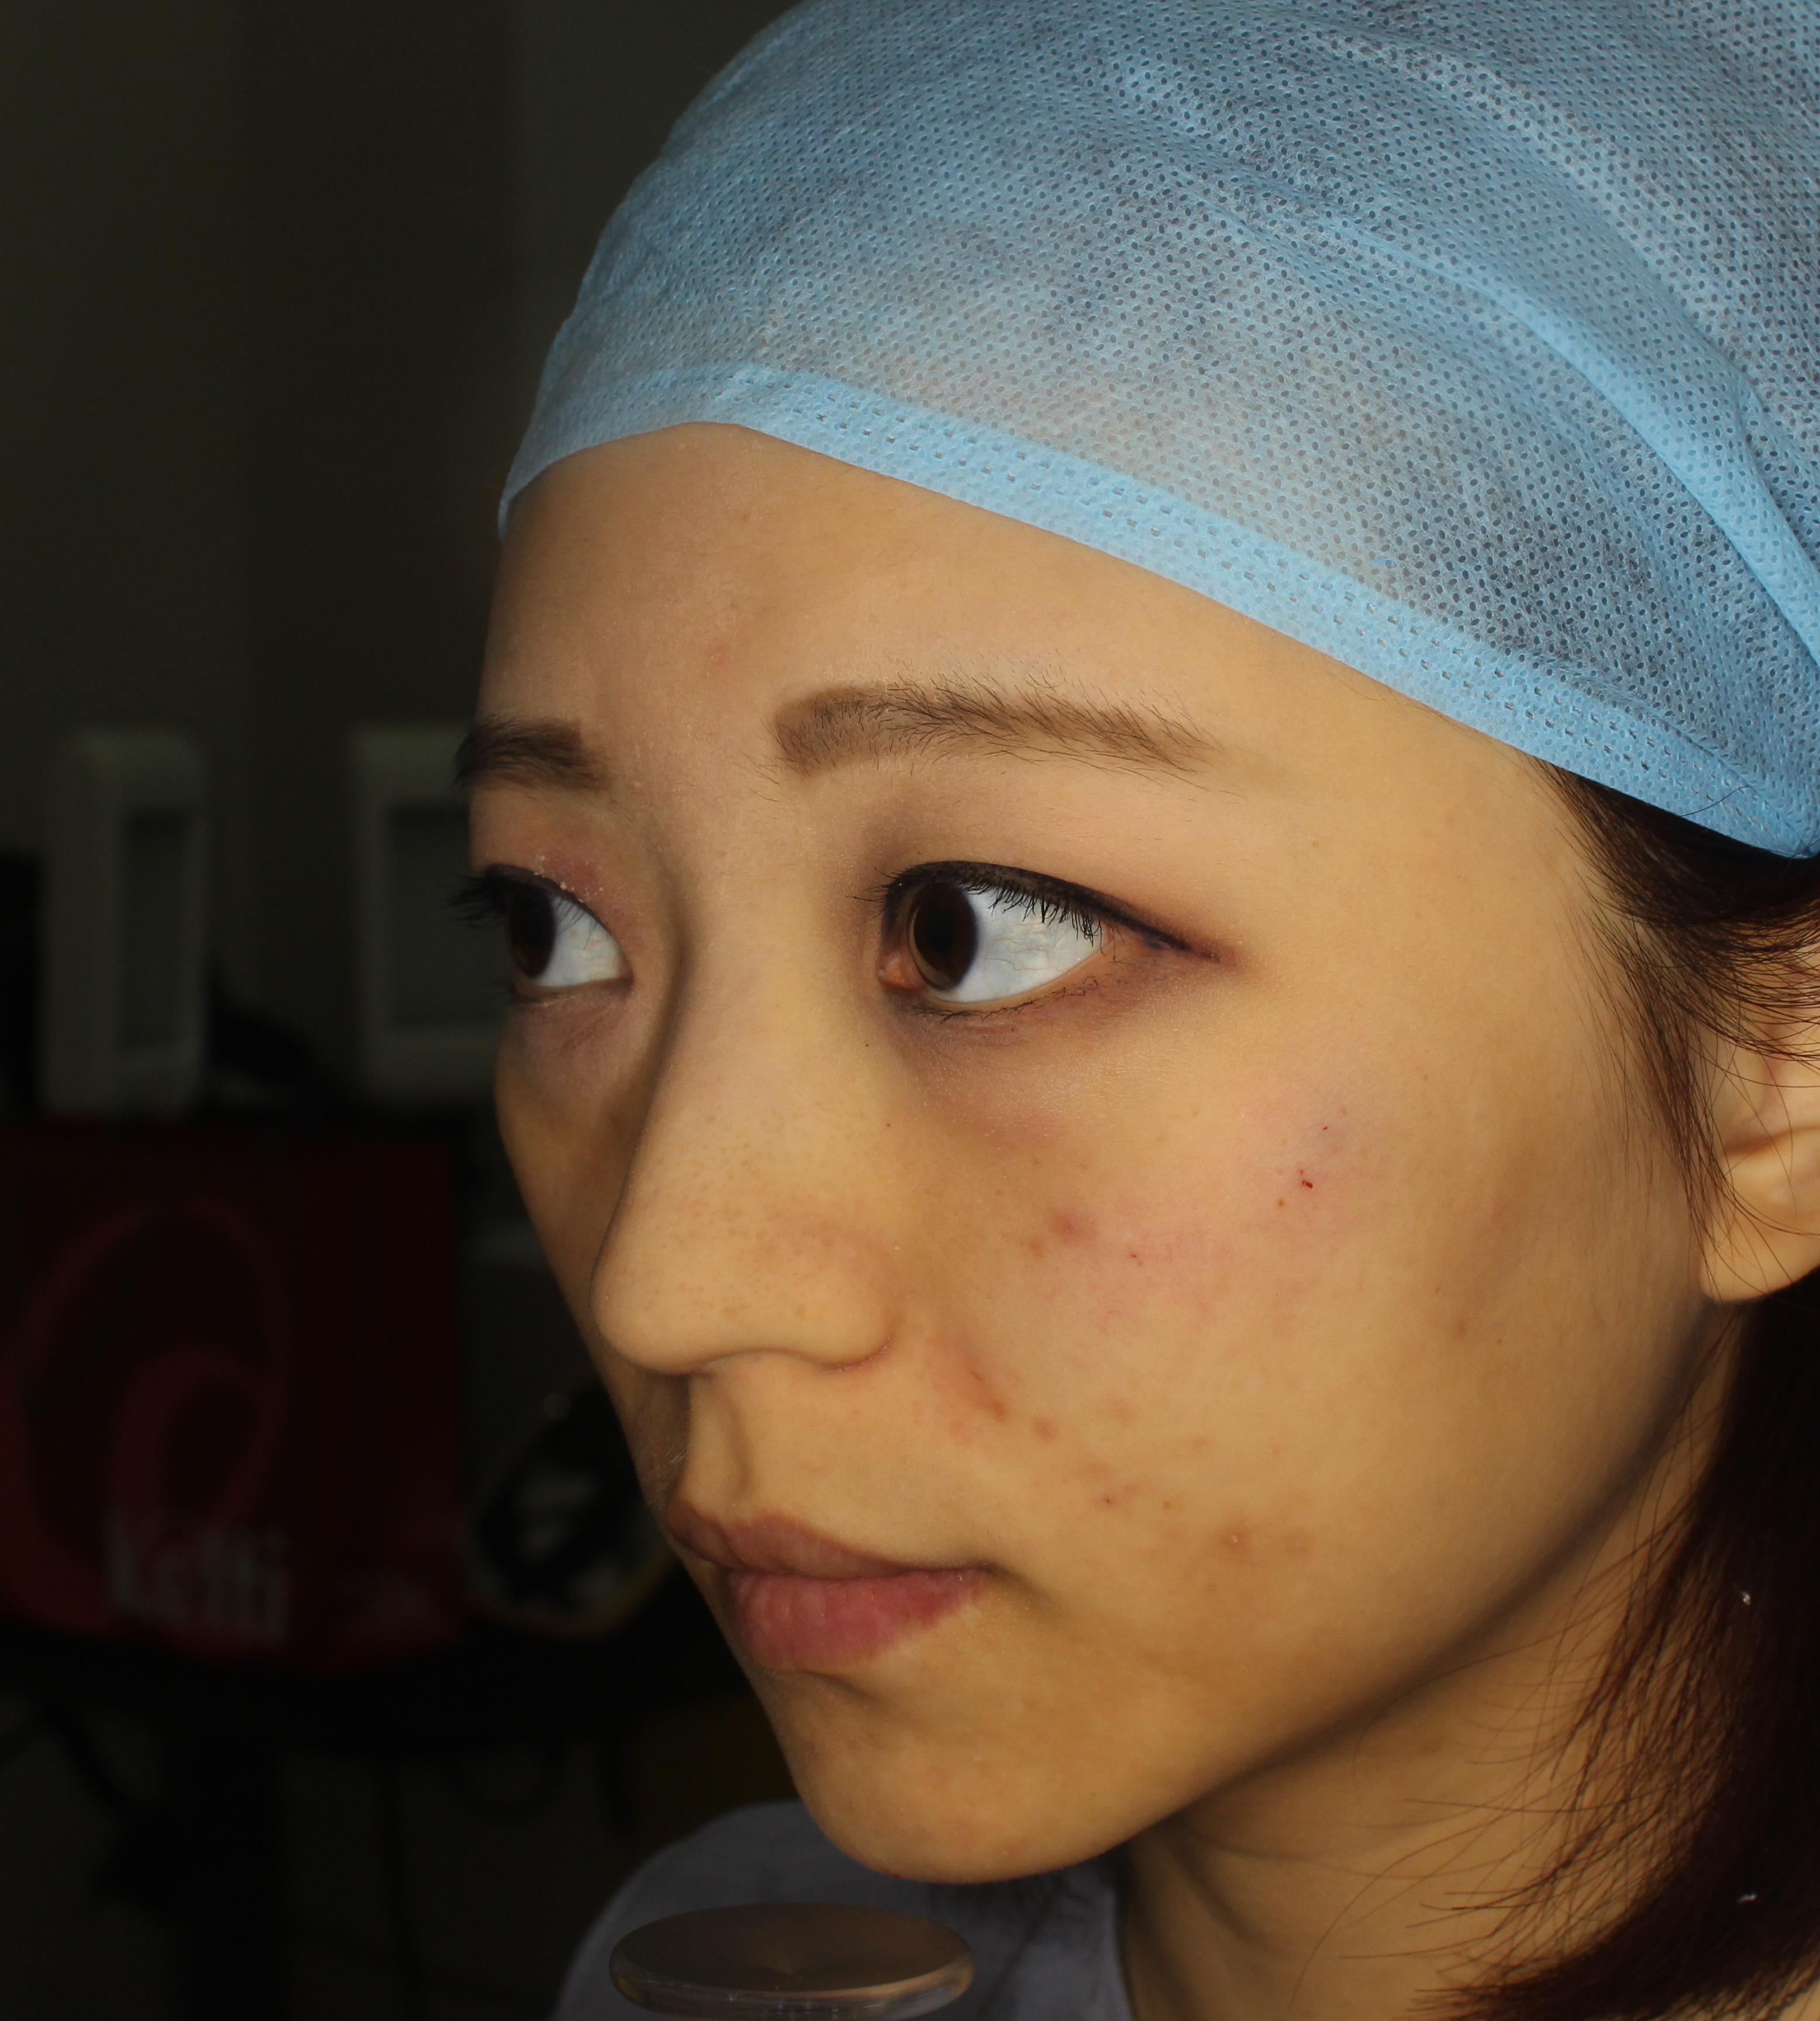fore: (950, 1347, 1036, 1433), (1031, 1196, 1109, 1277), (1210, 1496, 1265, 1589)
